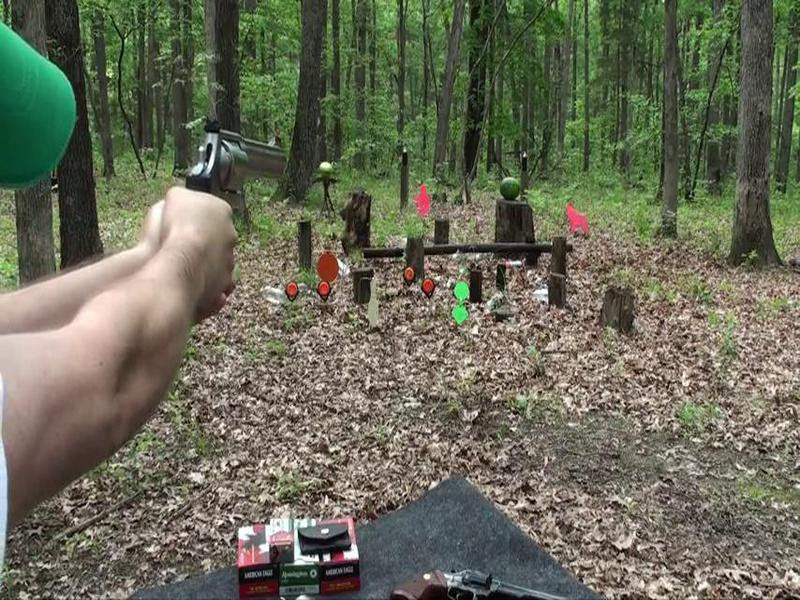Revolver: (157, 116, 309, 234)
